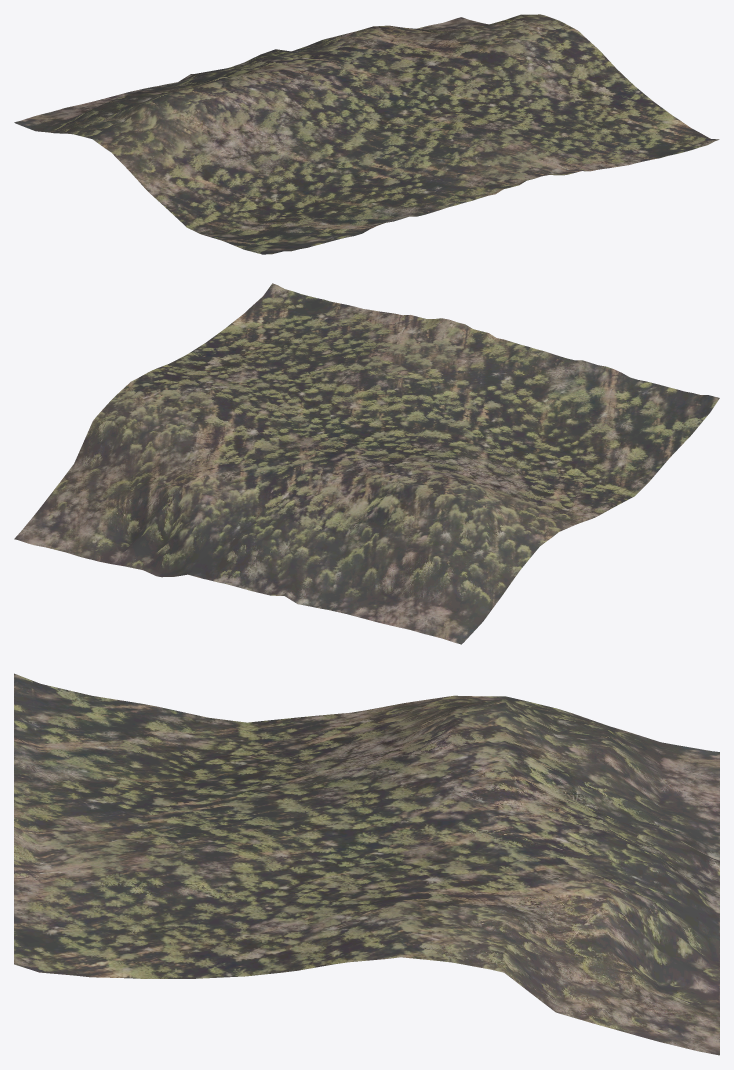
File: CM_Terrain_24492506_6816927.fbx
3 views of the same model, one above another, from view 1: azimuth 30°, elevation 25°; view 2: azimuth 150°, elevation 25°; view 3: azimuth 270°, elevation 25° (orthographic). The views are drawn at different scales.
Visible parts, largest first — view 1: CM_Terrain_24492506_6816927_LOD0; view 2: CM_Terrain_24492506_6816927_LOD0; view 3: CM_Terrain_24492506_6816927_LOD0.
Part boxes in pixels (bbox=[...]): CM_Terrain_24492506_6816927_LOD0: bbox=[14, 14, 719, 254]; CM_Terrain_24492506_6816927_LOD0: bbox=[14, 283, 719, 644]; CM_Terrain_24492506_6816927_LOD0: bbox=[14, 673, 719, 1055].
Size of what is drawn, in the model's own units: 205 by 33.3 by 205.
